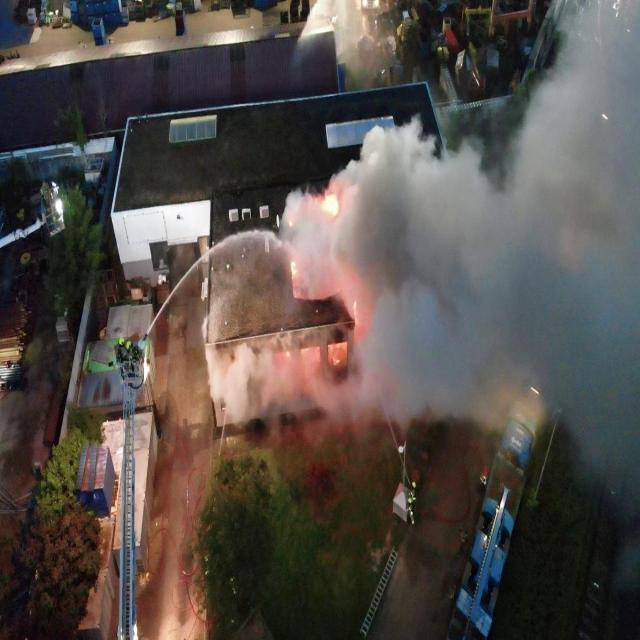Fire: (323, 196, 339, 214), (290, 261, 296, 276), (332, 358, 340, 366), (353, 300, 357, 314)
Smoke: (201, 0, 640, 502)
